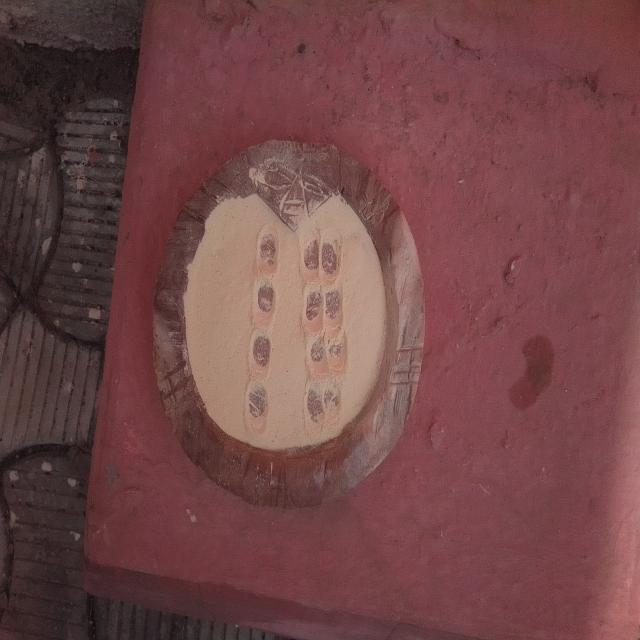double: (299, 227, 346, 285), (302, 279, 346, 333), (306, 374, 344, 436), (304, 331, 350, 376)
single: (250, 274, 280, 334), (243, 376, 270, 440), (254, 219, 281, 280), (245, 328, 275, 382)
